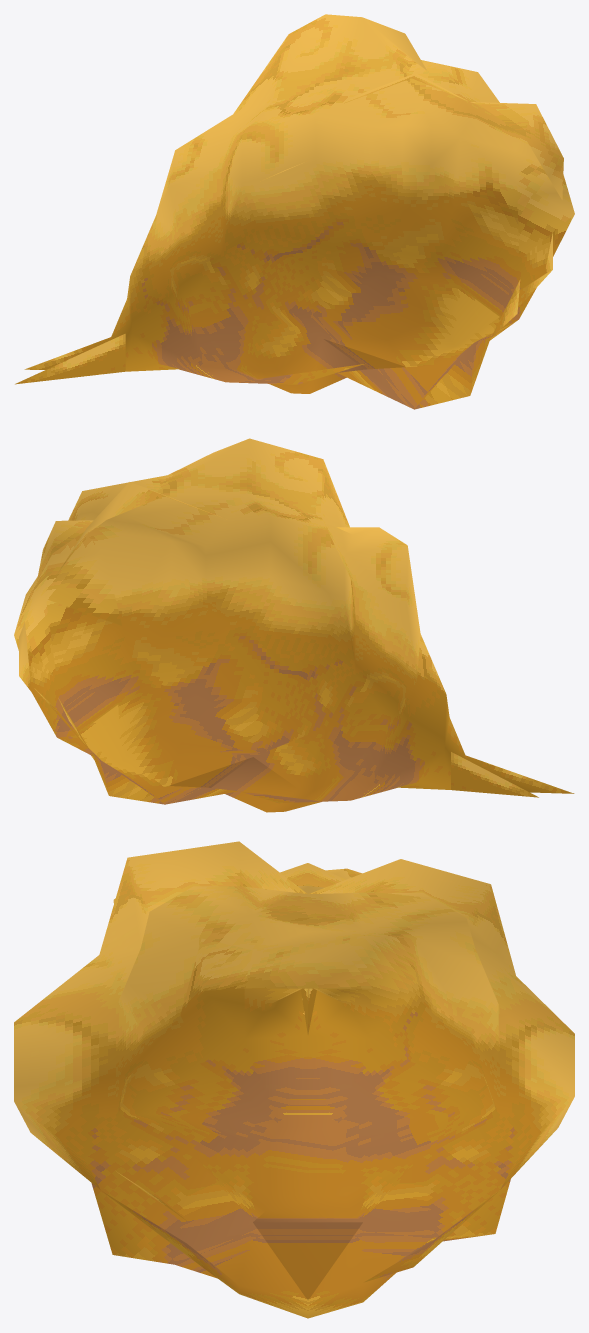
File: ps2_save-icons_dragonballzbudokai2.glb
3 views of the same model, one above another, from view 1: azimuth 30°, elevation 25°; view 2: azimuth 150°, elevation 25°; view 3: azimuth 270°, elevation 25° (orthographic). The views are drawn at different scales.
Visible parts, largest first — view 1: icon0.ico; view 2: icon0.ico; view 3: icon0.ico.
Part boxes in pixels (x1=…): icon0.ico: x1=15, y1=14, x2=574, y2=409; icon0.ico: x1=14, y1=438, x2=574, y2=812; icon0.ico: x1=14, y1=841, x2=574, y2=1318.
Size of the model in its own units: 3.98 by 2.27 by 2.71.
1 material, 1 textured.
